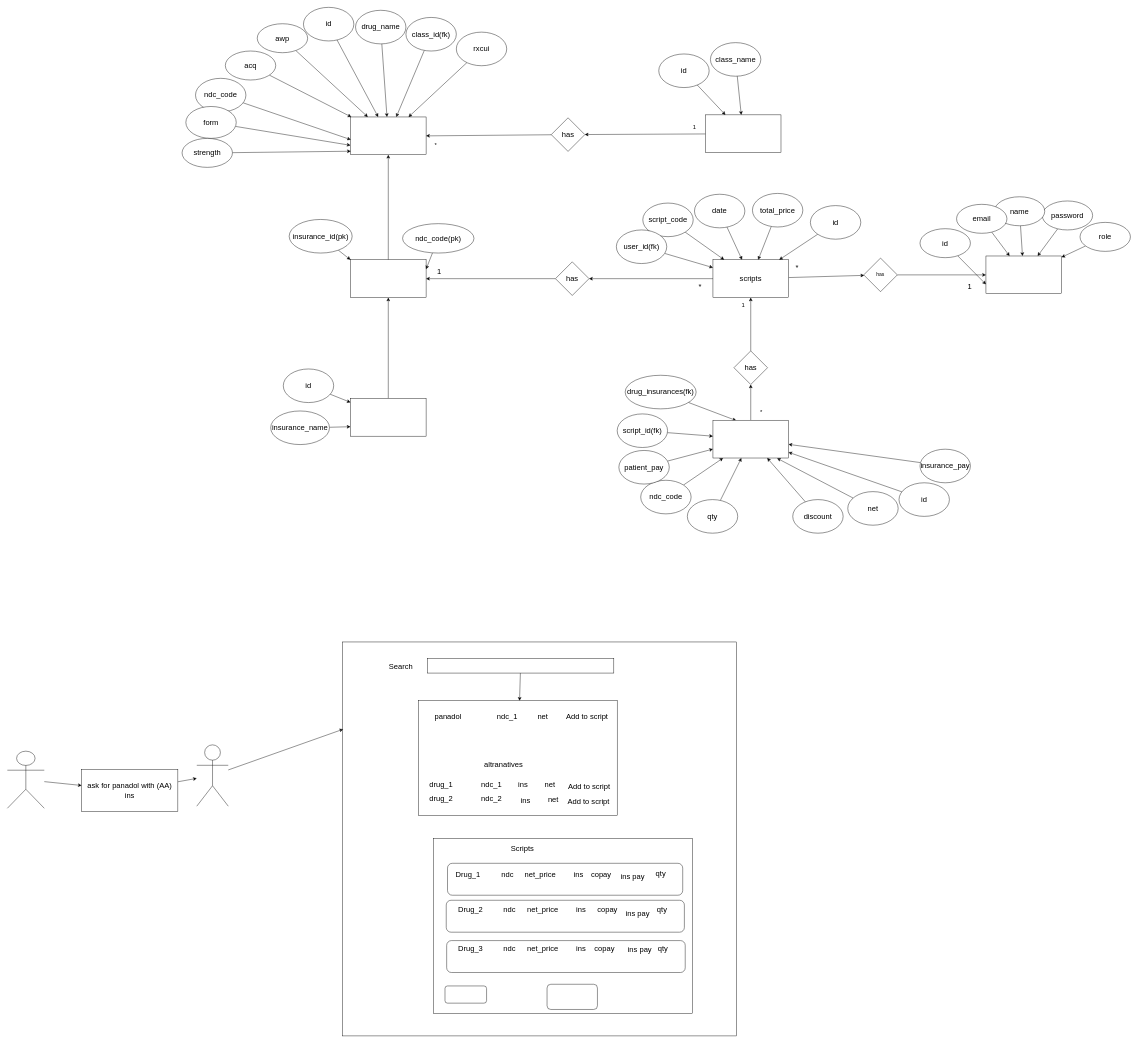
Image size: 1138x1043. Some labels were removed from this diagram. The shapes that lost their labels are listed below. From the top down, each one's centre as x and y in pixels, then its label:
(x=388, y=136): drugs
(x=743, y=133): classes
(x=388, y=278): drug_insurances
(x=1024, y=275): users
(x=388, y=417): insurances
(x=751, y=439): script_items
(x=520, y=665): panadol with (ndc) and (AA)
(x=25, y=779): user
(x=212, y=775): pharm
(x=466, y=994): total
(x=572, y=996): make script
